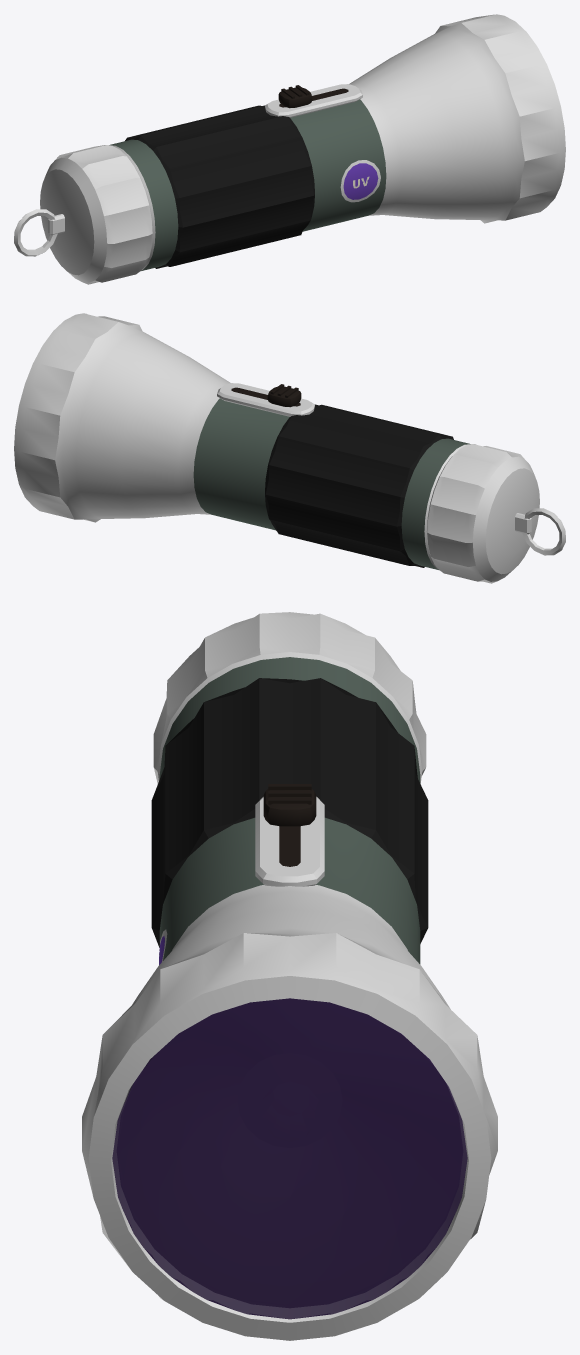
Rendered from uv_lamp.glb.
The picture shows the model from 3 angles, top to bottom: view 1: azimuth 30°, elevation 25°; view 2: azimuth 150°, elevation 25°; view 3: azimuth 270°, elevation 25°; orthographic projection. The views are drawn at different scales.
Parts seen in each view (by area): view 1: uv_lamp; view 2: uv_lamp; view 3: uv_lamp, uv_lens.
Boxes of the visible parts, bbox=[...] form: uv_lamp: bbox=[14, 14, 565, 284]; uv_lamp: bbox=[14, 313, 565, 583]; uv_lamp: bbox=[82, 612, 497, 1340]; uv_lens: bbox=[112, 998, 467, 1319].
Bounding box in the file's own units: 0.1774 × 0.0616 × 0.0632.
